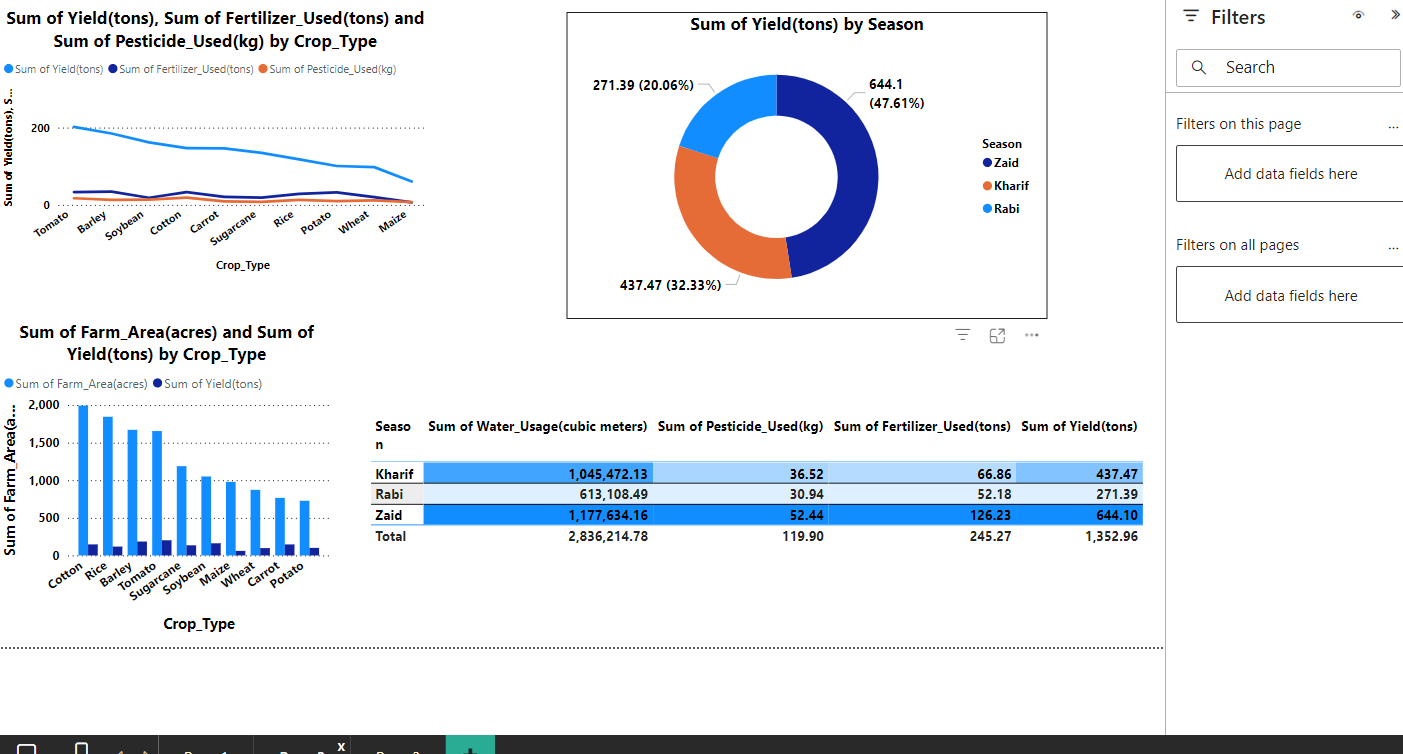

The dashboard page shown, as its layout file describes it:
{"tool":"powerbi","page":{"name":"Page 2","canvas":[1280,720],"ordinal":1},"visuals":[{"type":"clusteredColumnChart","fields":{"Y":["Sum(agriculture_dataset.Farm_Area(acres))","Sum(agriculture_dataset.Yield(tons))"],"Category":["agriculture_dataset.Crop_Type"]},"box":[0,359.5,367.8,348.5],"z":0},{"type":"lineChart","fields":{"Category":["agriculture_dataset.Crop_Type"],"Y":["Sum(agriculture_dataset.Yield(tons))","Sum(agriculture_dataset.Fertilizer_Used(tons))","Sum(agriculture_dataset.Pesticide_Used(kg))"]},"box":[0,15.1,474.8,297.8],"z":1000},{"type":"tableEx","fields":{"Values":["agriculture_dataset.Season","Sum(agriculture_dataset.Water_Usage(cubic meters))","Sum(agriculture_dataset.Pesticide_Used(kg))","Sum(agriculture_dataset.Fertilizer_Used(tons))","Sum(agriculture_dataset.Yield(tons))"]},"box":[402.1,459.7,878.2,185.2],"z":2000},{"type":"donutChart","fields":{"Category":["agriculture_dataset.Season"],"Y":["Sum(agriculture_dataset.Yield(tons))"]},"box":[623,54.9,528.3,337.6],"z":3000}]}

Visuals, with their boxes on the page's 1280x720 design canvas (x1, y1, x2, y2). These are canvas units, not pixel positions in the 1403x754 screenshot, which may show the page scaled, cropped or inside an application window:
clusteredColumnChart - Sum(agriculture_dataset.Farm_Area(acres)) x Sum(agriculture_dataset.Yield(tons)): left=0, top=360, right=368, bottom=708
lineChart - agriculture_dataset.Crop_Type x Sum(agriculture_dataset.Yield(tons)): left=0, top=15, right=475, bottom=313
tableEx - agriculture_dataset.Season x Sum(agriculture_dataset.Water_Usage(cubic meters)): left=402, top=460, right=1280, bottom=645
donutChart - agriculture_dataset.Season x Sum(agriculture_dataset.Yield(tons)): left=623, top=55, right=1151, bottom=392
